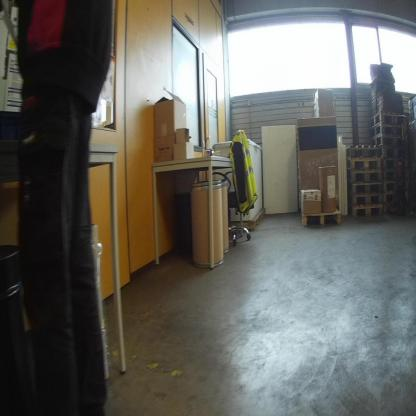pallet: (297, 203, 342, 230), (227, 208, 266, 233), (368, 109, 406, 134), (369, 119, 404, 140), (346, 204, 383, 220), (347, 140, 378, 159), (345, 156, 382, 170), (346, 192, 383, 206), (372, 143, 404, 158), (347, 180, 383, 193), (348, 168, 382, 181), (367, 134, 405, 145), (382, 157, 409, 172), (383, 191, 409, 204), (383, 178, 408, 191), (382, 169, 407, 181), (382, 204, 409, 215)
pallet_truck: (387, 110, 411, 219)
